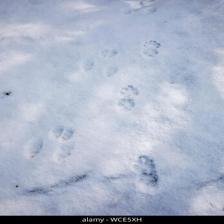fox: (116, 97, 137, 113)
